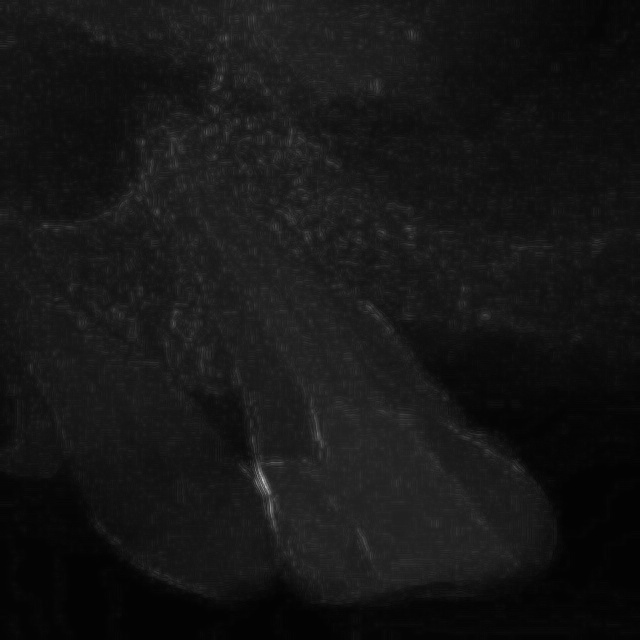Class 0- No endodontic treatment: (83, 71, 609, 614)
